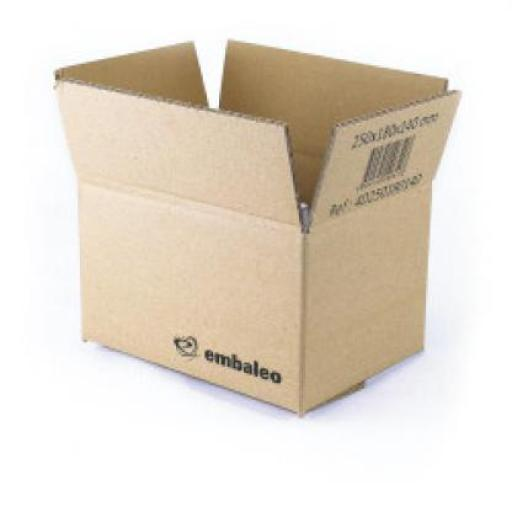box: (52, 39, 463, 417)
opened: (53, 39, 464, 234)
